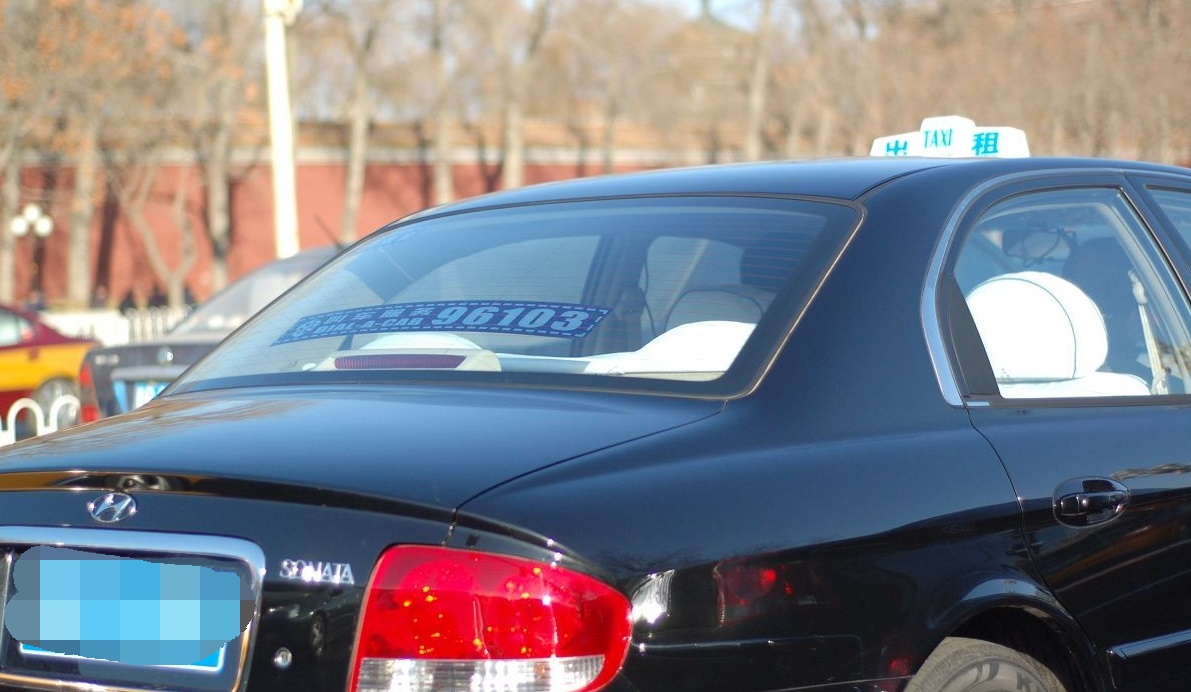taxi: (4, 118, 1191, 692)
